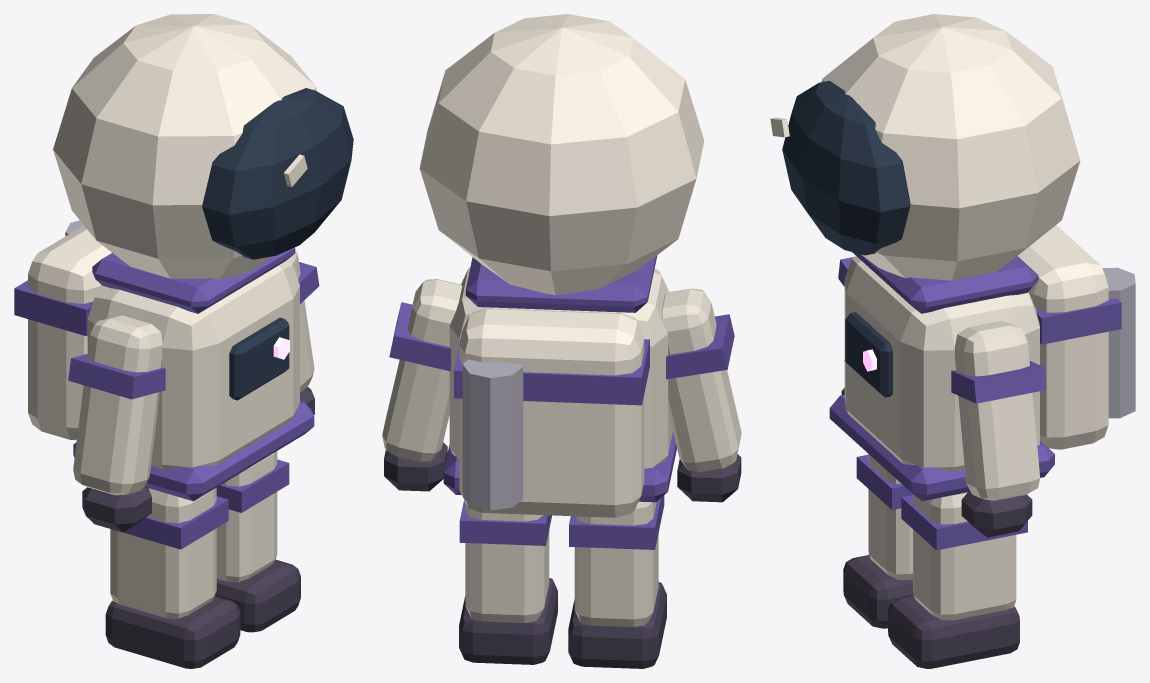
File: MOONSHIFT_CHR_Crew_C.glb
3 renders of one model, left to right at view 1: azimuth 30°, elevation 25°; view 2: azimuth 150°, elevation 25°; view 3: azimuth 270°, elevation 25°, orthographic. The views are drawn at different scales.
Visible parts, largest first — view 1: CrewC_Helmet, CrewC_Torso, CrewC_Visor, CrewC_Arm_L, CrewC_Backpack, CrewC_Leg_L, CrewC_Boot_L, CrewC_Leg_R, CrewC_Collar, CrewC_Belt, CrewC_Boot_R, CrewC_ChestPad (+7 smaller); view 2: CrewC_Helmet, CrewC_Backpack, CrewC_Arm_L, CrewC_Tank, CrewC_Arm_R, CrewC_Leg_L, CrewC_Leg_R, CrewC_Torso, CrewC_Collar, CrewC_Boot_L, CrewC_Boot_R, CrewC_BackpackStripe (+7 smaller); view 3: CrewC_Helmet, CrewC_Torso, CrewC_Visor, CrewC_Backpack, CrewC_Arm_R, CrewC_Leg_R, CrewC_Boot_R, CrewC_Collar, CrewC_Belt, CrewC_Tank, CrewC_Leg_L, CrewC_Boot_L (+6 smaller).
Part boxes in pixels (x1=…): CrewC_Helmet: x1=53, y1=14, x2=317, y2=279; CrewC_Torso: x1=87, y1=260, x2=299, y2=469; CrewC_Visor: x1=202, y1=88, x2=353, y2=259; CrewC_Arm_L: x1=73, y1=315, x2=162, y2=495; CrewC_Backpack: x1=28, y1=225, x2=111, y2=440; CrewC_Leg_L: x1=110, y1=487, x2=216, y2=618; CrewC_Boot_L: x1=105, y1=596, x2=240, y2=668; CrewC_Leg_R: x1=216, y1=451, x2=277, y2=582; CrewC_Collar: x1=92, y1=247, x2=295, y2=313; CrewC_Belt: x1=73, y1=401, x2=314, y2=501; CrewC_Boot_R: x1=215, y1=559, x2=300, y2=632; CrewC_ChestPad: x1=229, y1=317, x2=289, y2=400; CrewC_Helmet: x1=419, y1=14, x2=704, y2=295; CrewC_Backpack: x1=459, y1=308, x2=644, y2=517; CrewC_Arm_L: x1=661, y1=288, x2=741, y2=471; CrewC_Tank: x1=462, y1=359, x2=523, y2=510; CrewC_Arm_R: x1=382, y1=279, x2=461, y2=461; CrewC_Leg_L: x1=574, y1=501, x2=658, y2=627; CrewC_Leg_R: x1=465, y1=503, x2=549, y2=622; CrewC_Torso: x1=449, y1=267, x2=672, y2=468; CrewC_Collar: x1=465, y1=255, x2=657, y2=312; CrewC_Boot_L: x1=568, y1=582, x2=666, y2=668; CrewC_Boot_R: x1=459, y1=578, x2=557, y2=664; CrewC_BackpackStripe: x1=454, y1=333, x2=649, y2=405; CrewC_Helmet: x1=821, y1=14, x2=1080, y2=280; CrewC_Torso: x1=844, y1=256, x2=1039, y2=471; CrewC_Visor: x1=782, y1=80, x2=910, y2=255; CrewC_Backpack: x1=1018, y1=225, x2=1108, y2=449; CrewC_Arm_R: x1=954, y1=321, x2=1040, y2=500; CrewC_Leg_R: x1=913, y1=492, x2=1016, y2=620; CrewC_Boot_R: x1=888, y1=595, x2=1019, y2=668; CrewC_Collar: x1=852, y1=252, x2=1038, y2=313; CrewC_Belt: x1=829, y1=394, x2=1054, y2=501; CrewC_Tank: x1=1102, y1=267, x2=1135, y2=418; CrewC_Leg_L: x1=868, y1=454, x2=912, y2=579; CrewC_Boot_L: x1=843, y1=555, x2=913, y2=628.
Bounding box in the file's own units: 1.07 × 2.15 × 1.18.
